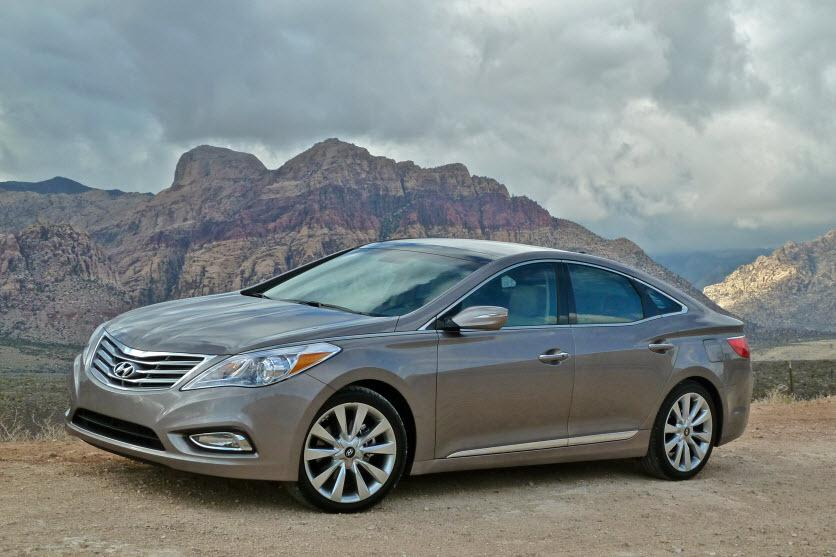Sedan: (63, 235, 753, 513)
